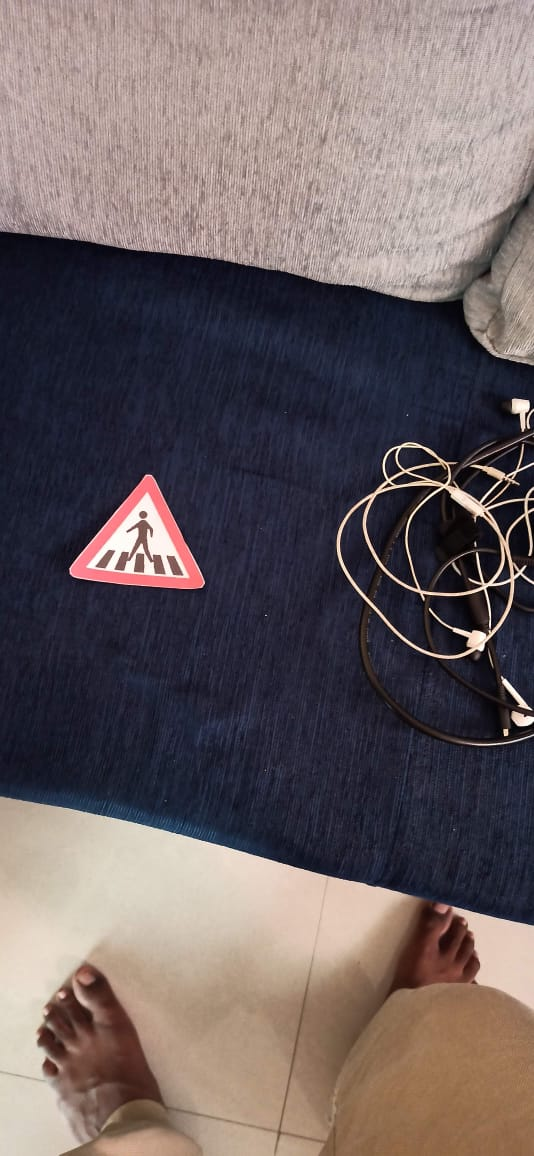PEDESTRIAN CROSSING: (61, 458, 223, 608)
